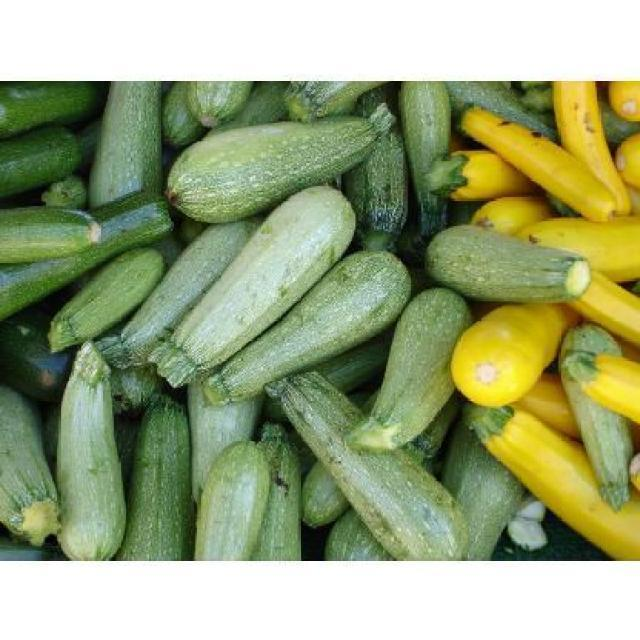cucumber: (0, 78, 638, 558)
